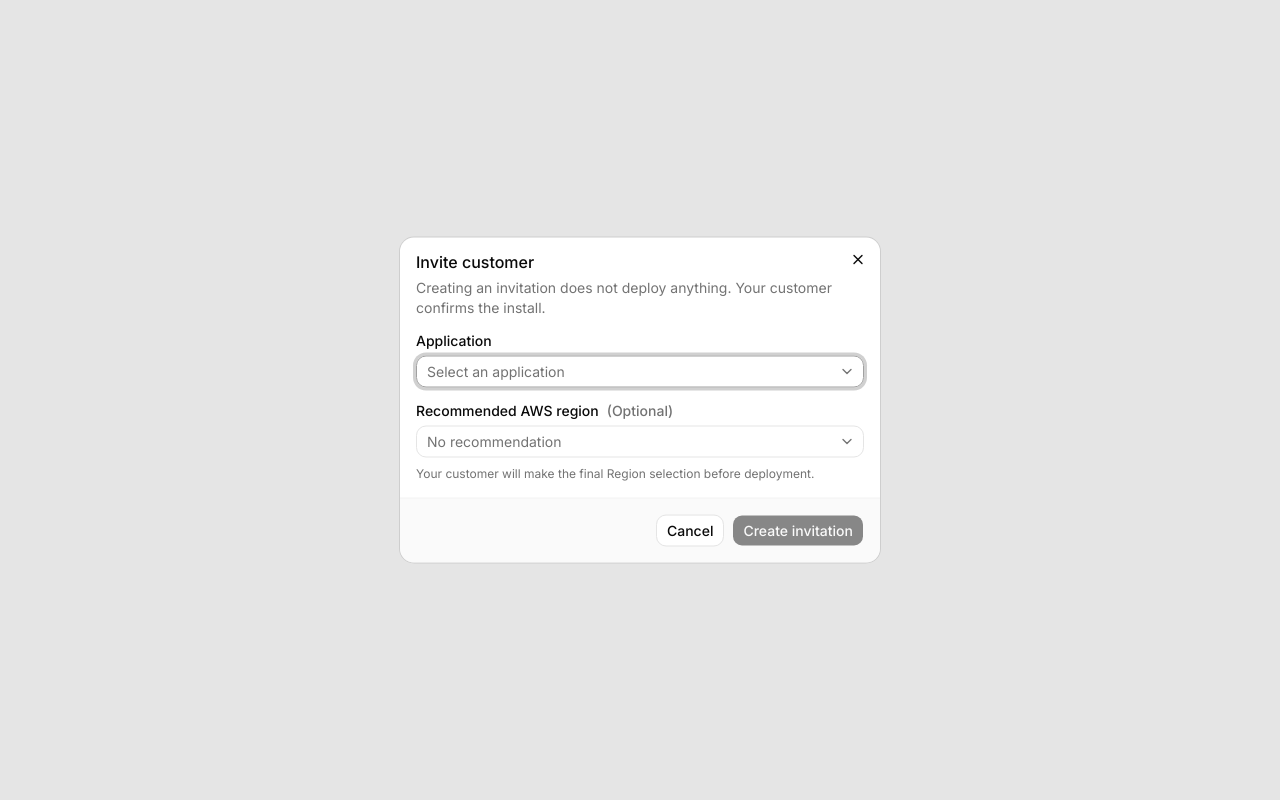
Test: InvitationDialog › posts the invitation body and reveals one URL that carries the one-time token
Press the mouse on the dropdown labelled "Select an application" at (496, 371), box [416,356,864,388]
Click the dropdown labelled "Select an application". click: (496, 371)
box: [416,356,864,388]
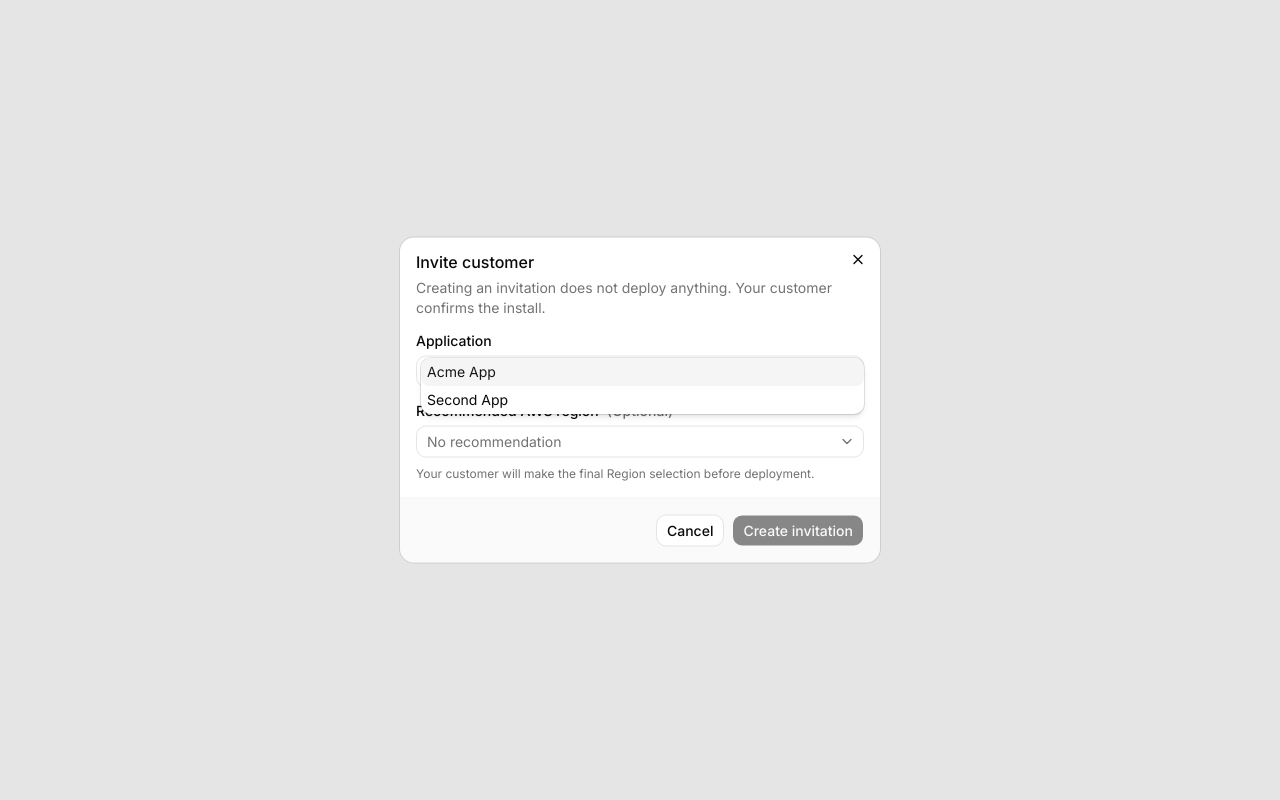
Press the mouse on the option "Acme App" at (461, 371), box [421,358,864,386]
Click the option "Acme App". click: (461, 371)
box: [421,358,864,386]
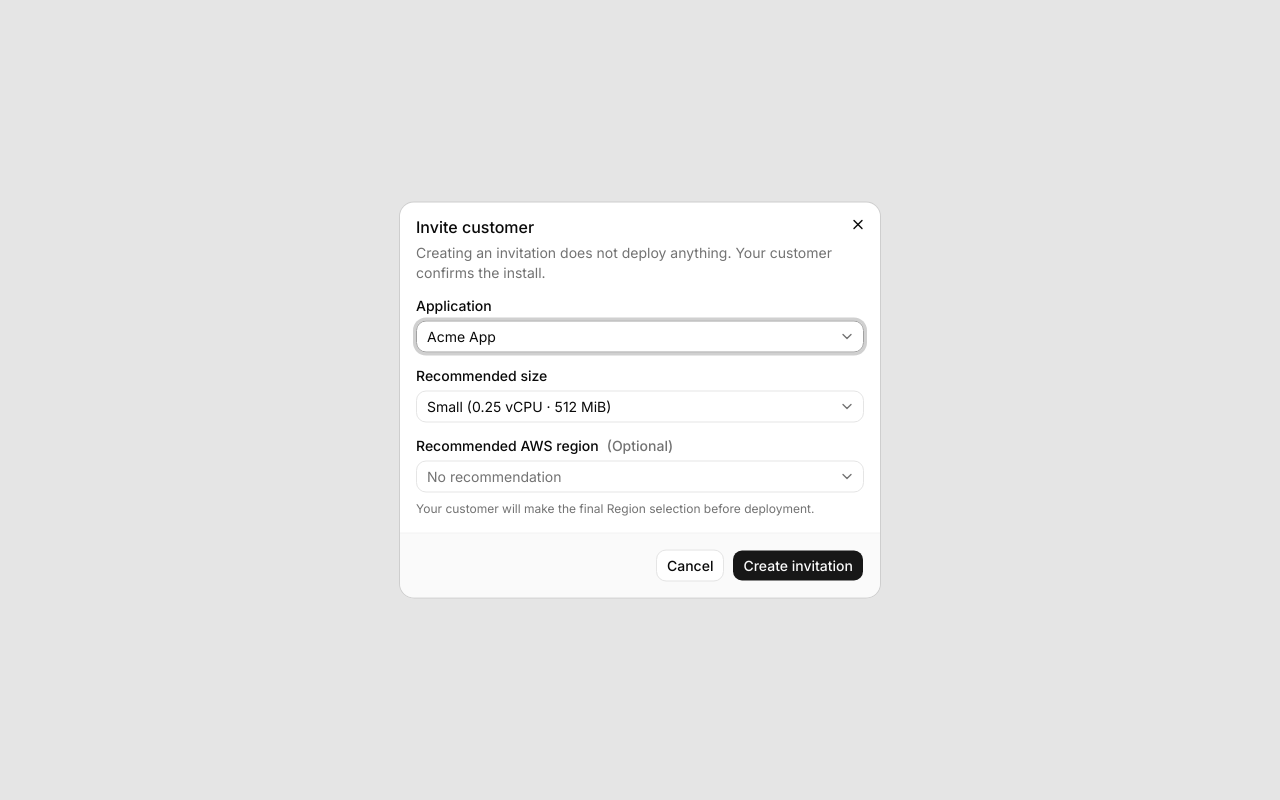
Click the button "Create invitation". click: (798, 566)
box: [732,550,864,582]
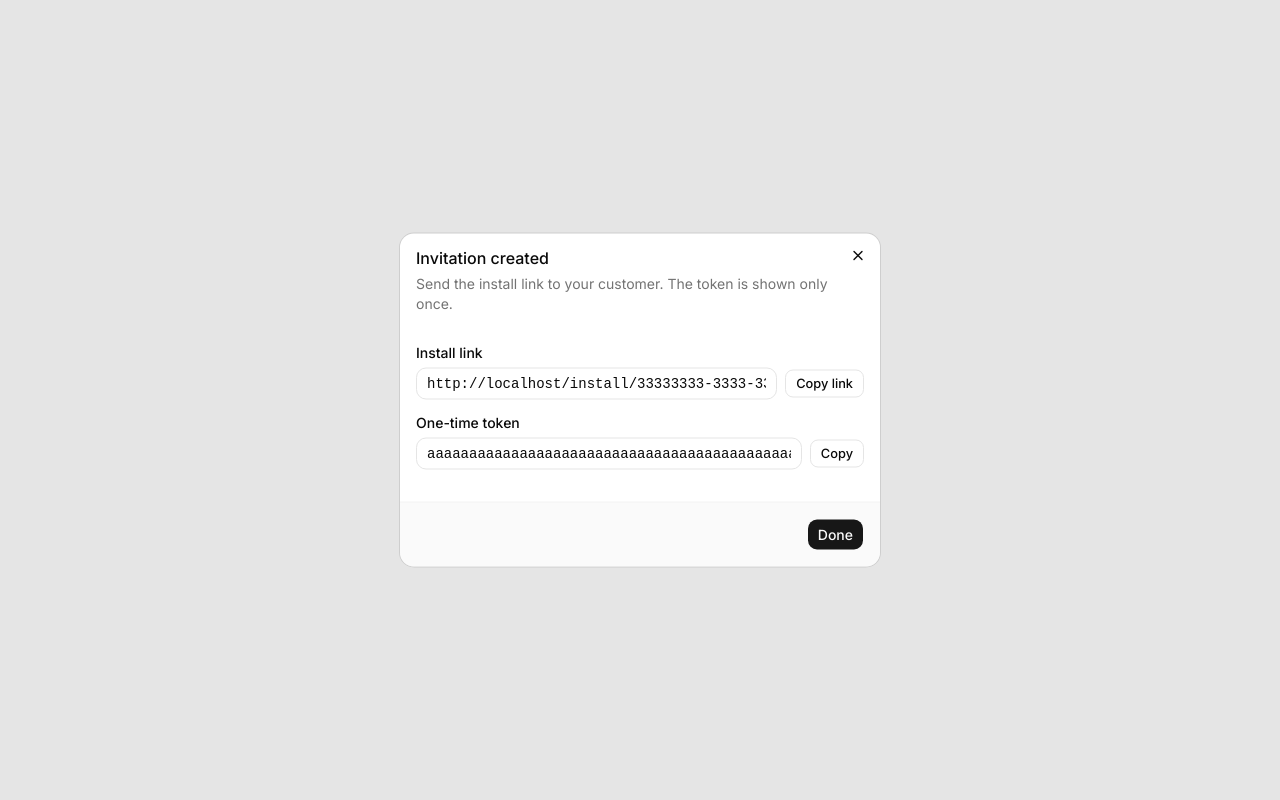
Check: the text "Invitation created" is shown, box [416,248,549,268]
Check: the text "The token is shown only once" is shown, box [416,274,828,312]
